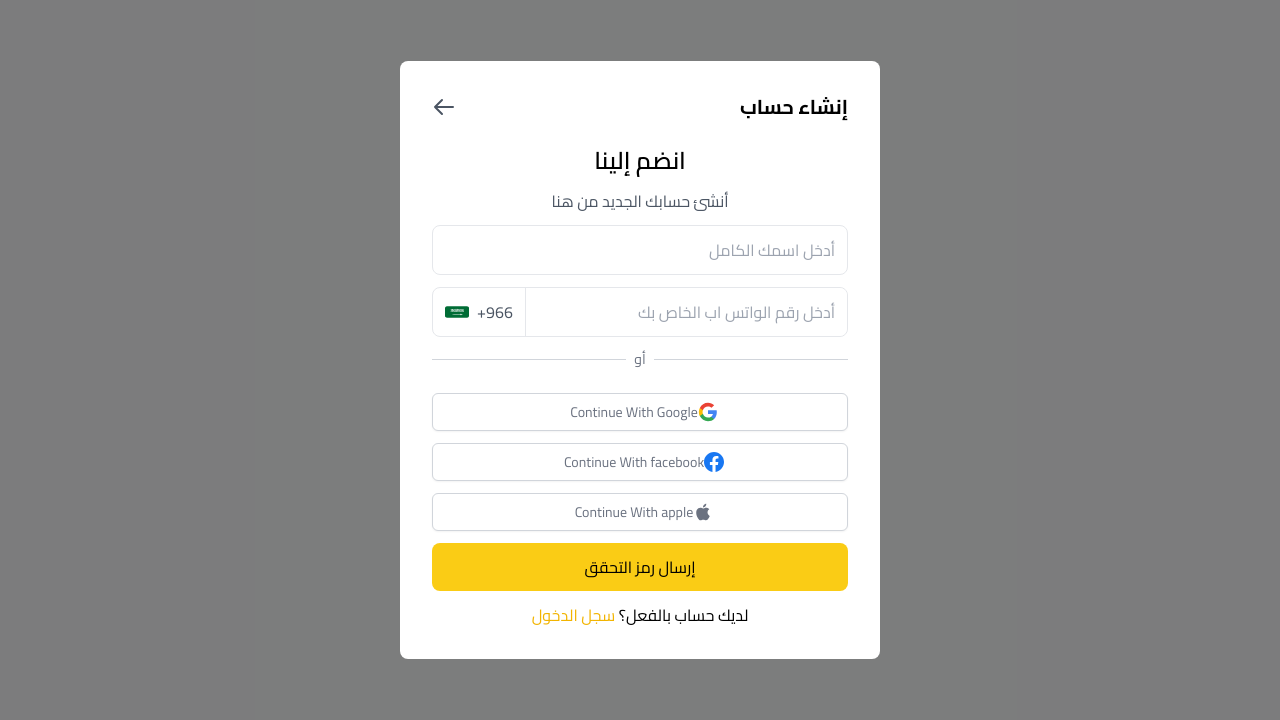
Test: RegisterModal › shows verification screen when submit button is clicked
Click the button "إرسال رمز التحقق". click: (640,567)
box: top-left (432, 543), bottom-right (848, 591)
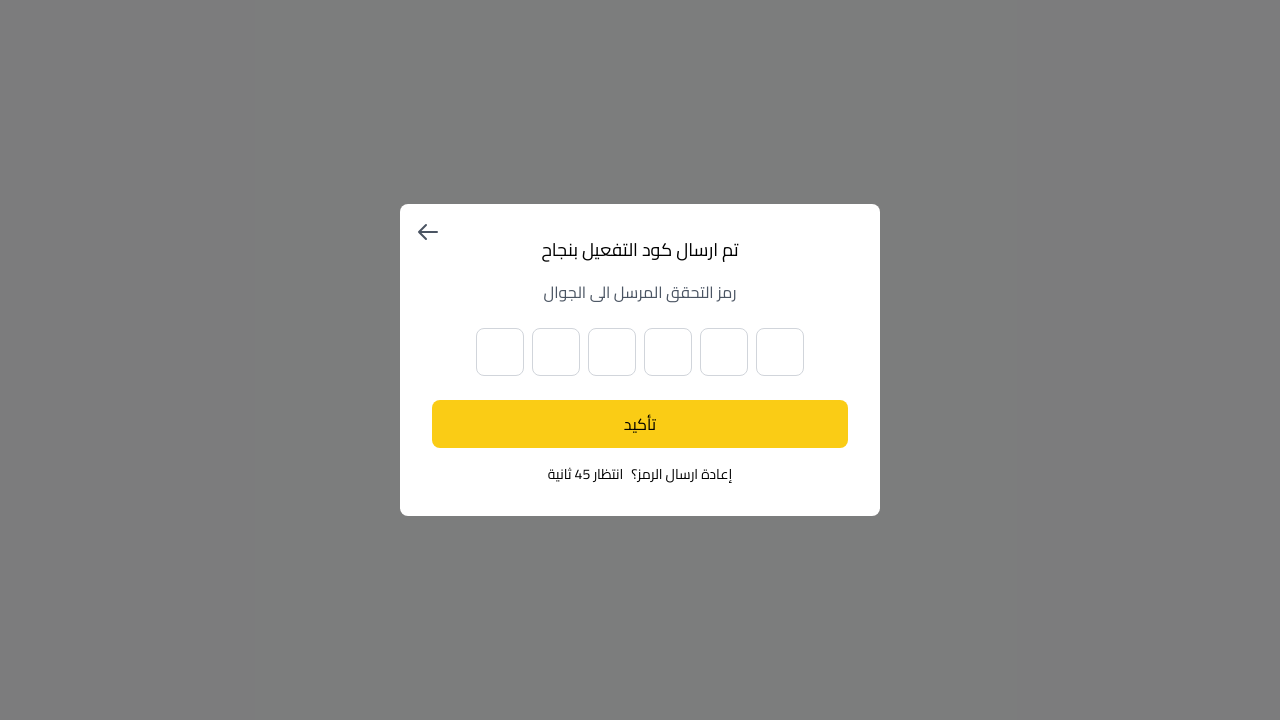
Check: the text "تم ارسال كود التفعيل بنجاح" is shown, box top-left (541, 233), bottom-right (739, 266)
Check: the text "رمز التحقق المرسل الى الجوال" is shown, box top-left (544, 277), bottom-right (736, 307)
